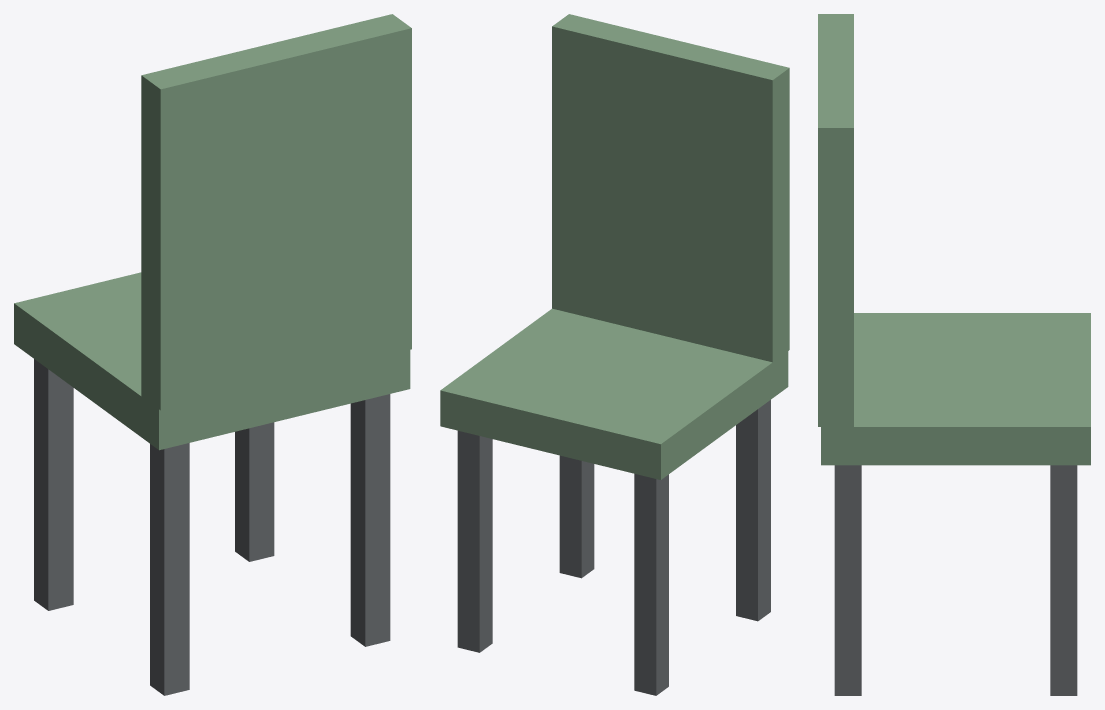
Rendered from chair_03.glb.
3 views of the same model, side by side, from view 1: azimuth 30°, elevation 25°; view 2: azimuth 150°, elevation 25°; view 3: azimuth 270°, elevation 25° (orthographic). The views are drawn at different scales.
Visible parts, largest first — view 1: back, seat, leg0.180.18, leg-0.180.18, leg-0.18-0.18, leg0.18-0.18; view 2: back, seat, leg0.18-0.18, leg-0.18-0.18, leg-0.180.18, leg0.180.18; view 3: seat, back, leg0.18-0.18, leg0.180.18.
Boxes of the visible parts, x1,y1,x2,y2 form: back: (141,14,411,410); seat: (14,272,410,450); leg0.180.18: (350,394,390,646); leg-0.180.18: (150,443,189,695); leg-0.18-0.18: (34,359,73,610); leg0.18-0.18: (235,422,274,561); back: (552,14,789,362); seat: (440,308,788,479); leg0.18-0.18: (457,430,492,652); leg-0.18-0.18: (634,473,668,695); leg-0.180.18: (736,400,770,621); leg0.180.18: (559,455,594,578); seat: (821,313,1090,465); back: (818,14,853,426); leg0.18-0.18: (1050,465,1077,695); leg0.180.18: (834,465,861,695).
Bounding box in the file's own units: 0.45 × 1.05 × 0.455.
